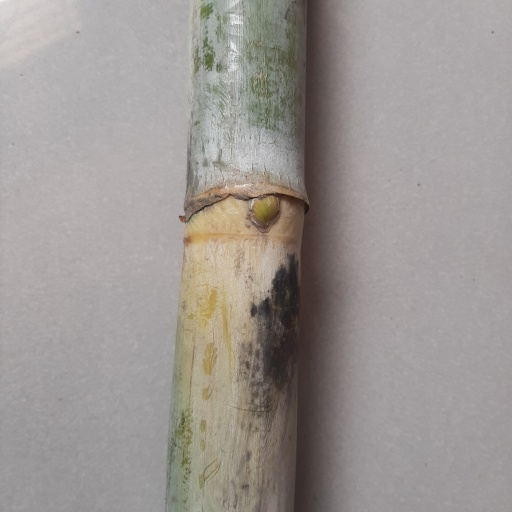Bud: (250, 194, 282, 234)
